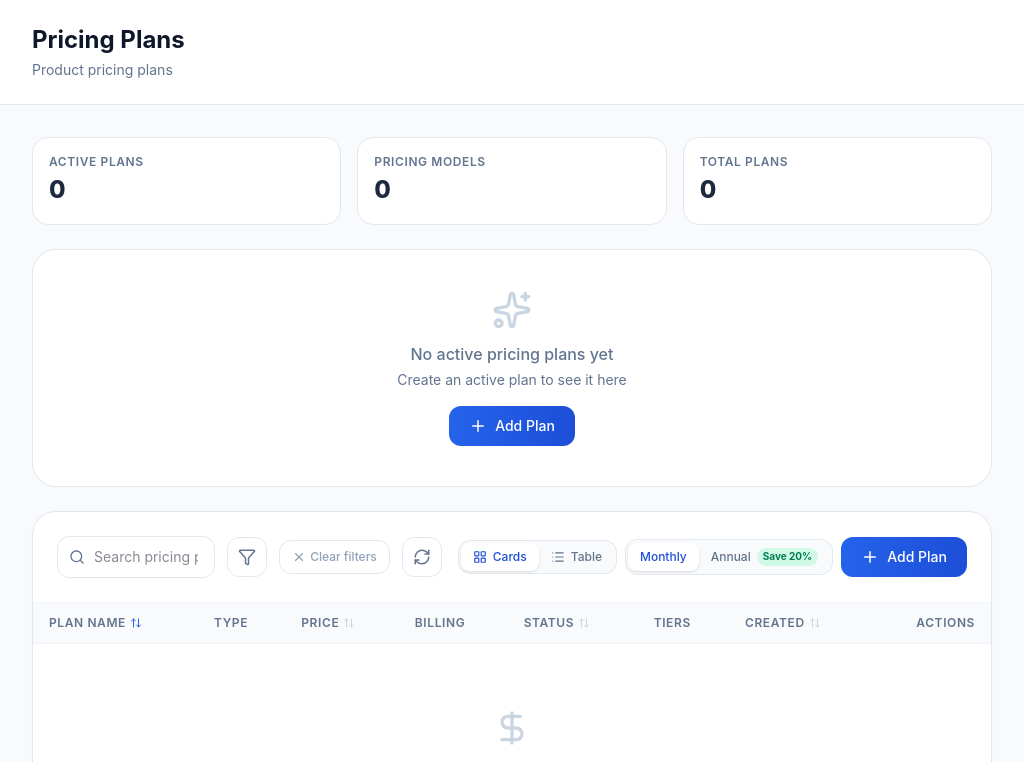
Test: T. Product pricing plans › clears search, type and status
This screenshot has width=1024, height=762.
Expected: the button "Clear filters" is disabled, [279,540,390,574]
Click the button named "Toggle filters".
click(247, 557)  # box [227,537,267,577]
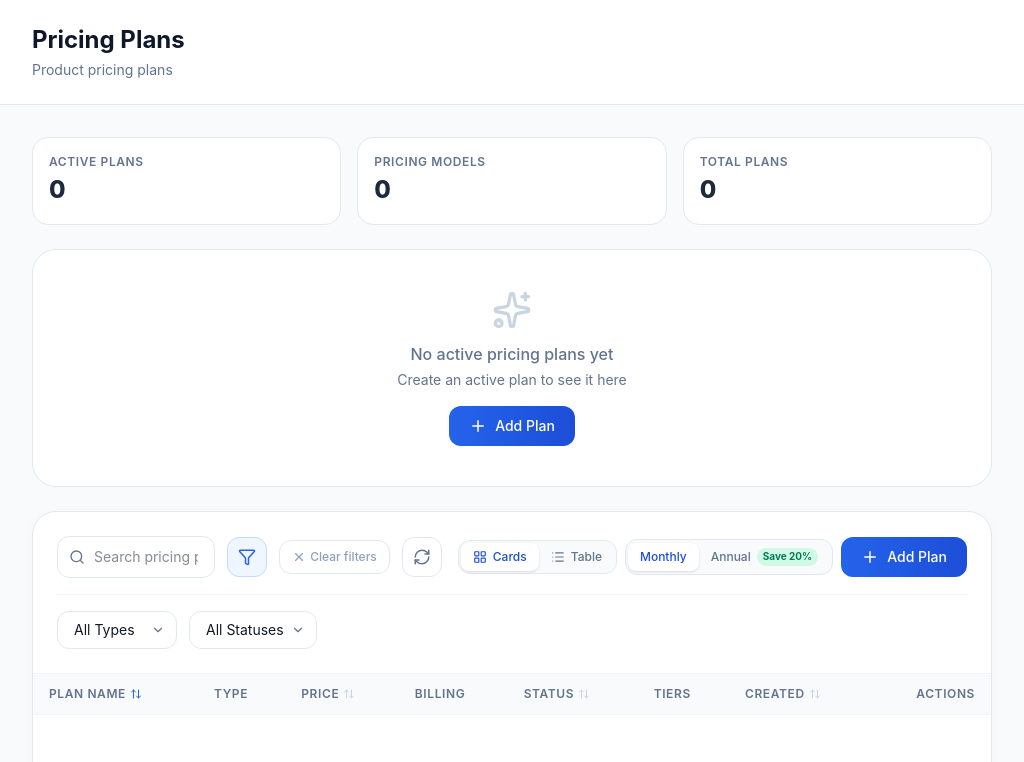
Select "Inactive" in the dropdown named "Plan status" at (253, 630), box [189,611,317,649]
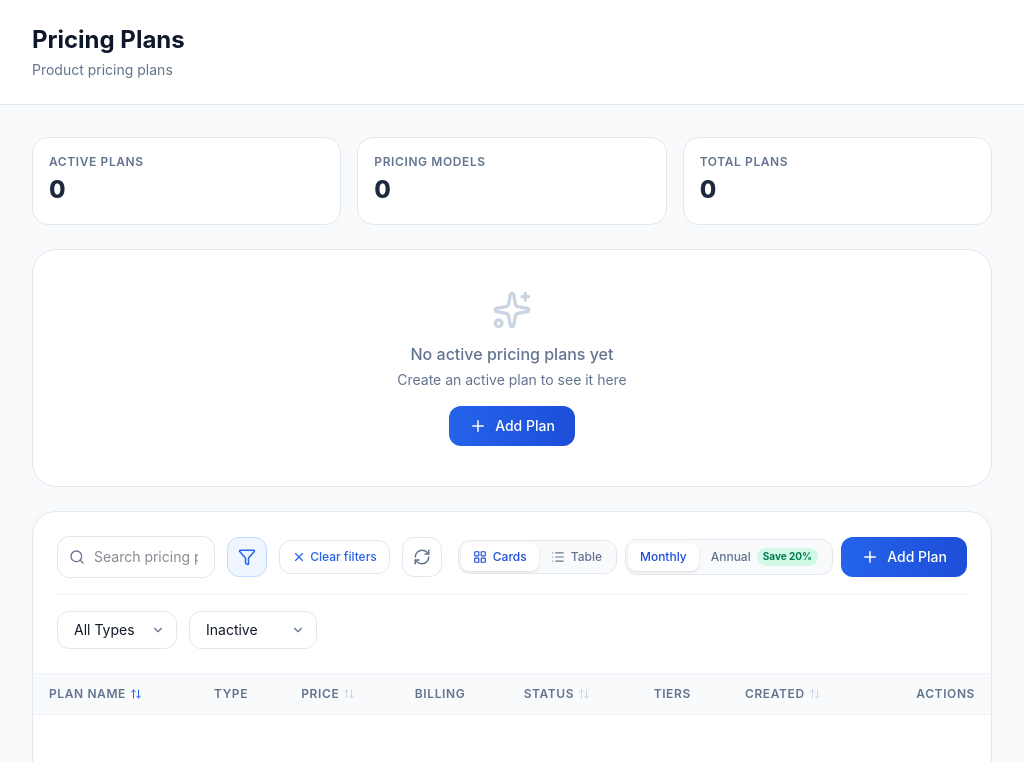
Click the button "Clear filters".
click(334, 557)  # box [279,540,390,574]
(page scrolled)
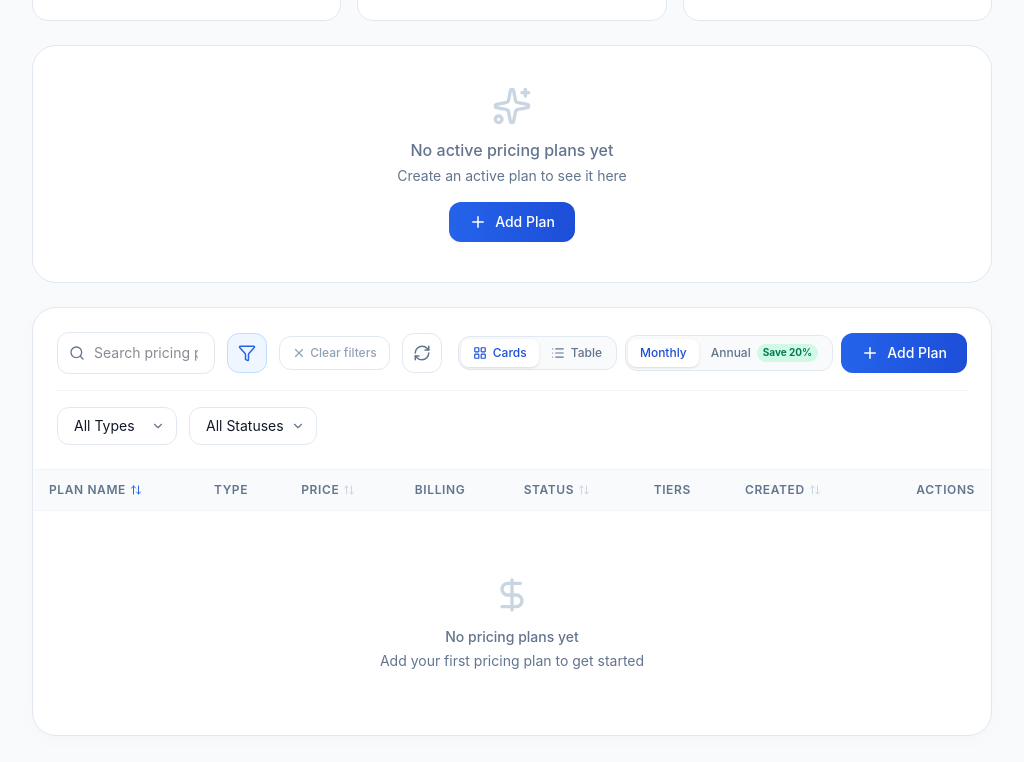
Expected: the text "No pricing plans yet" is shown, [445,627,579,647]
